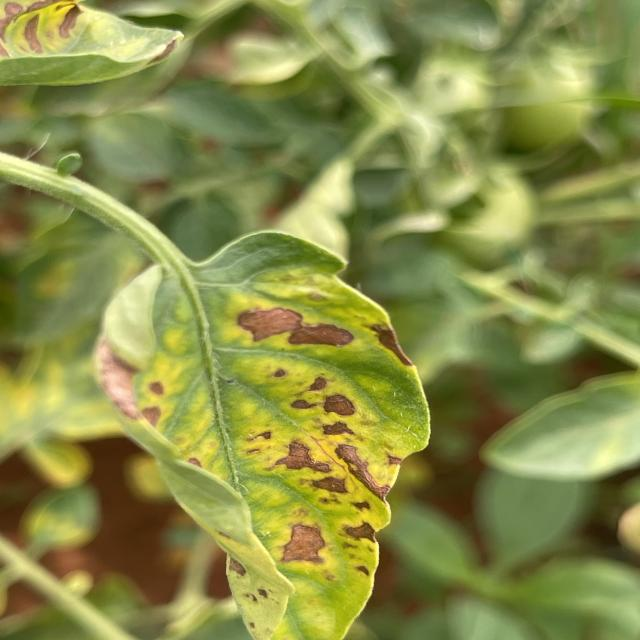tomato_early blight: (87, 229, 426, 640), (0, 0, 182, 85)
